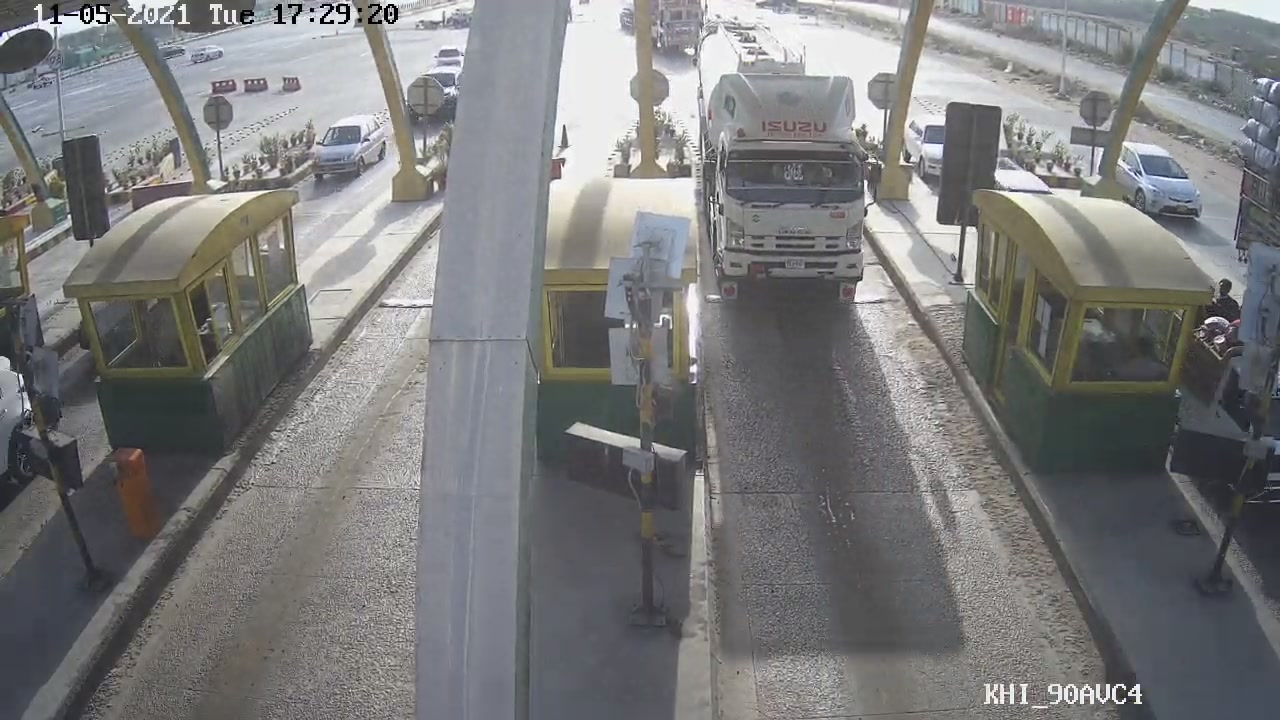F6: (688, 37, 889, 306)
